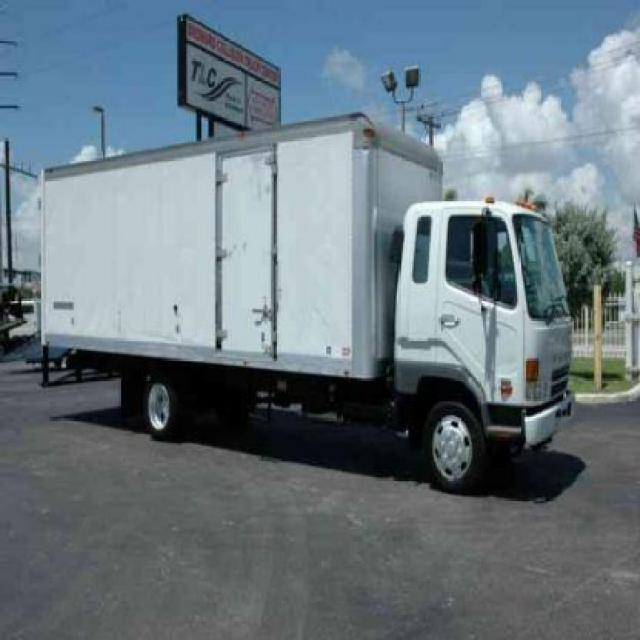truck: (39, 114, 573, 485)
